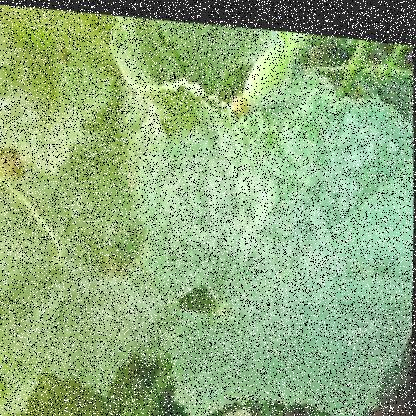PowderyMildew: (156, 99, 382, 290)
